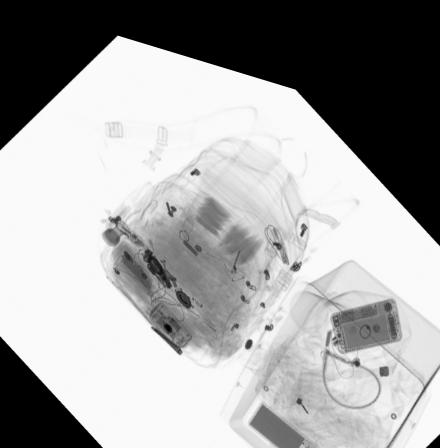Powerbank: (245, 382, 319, 448)
